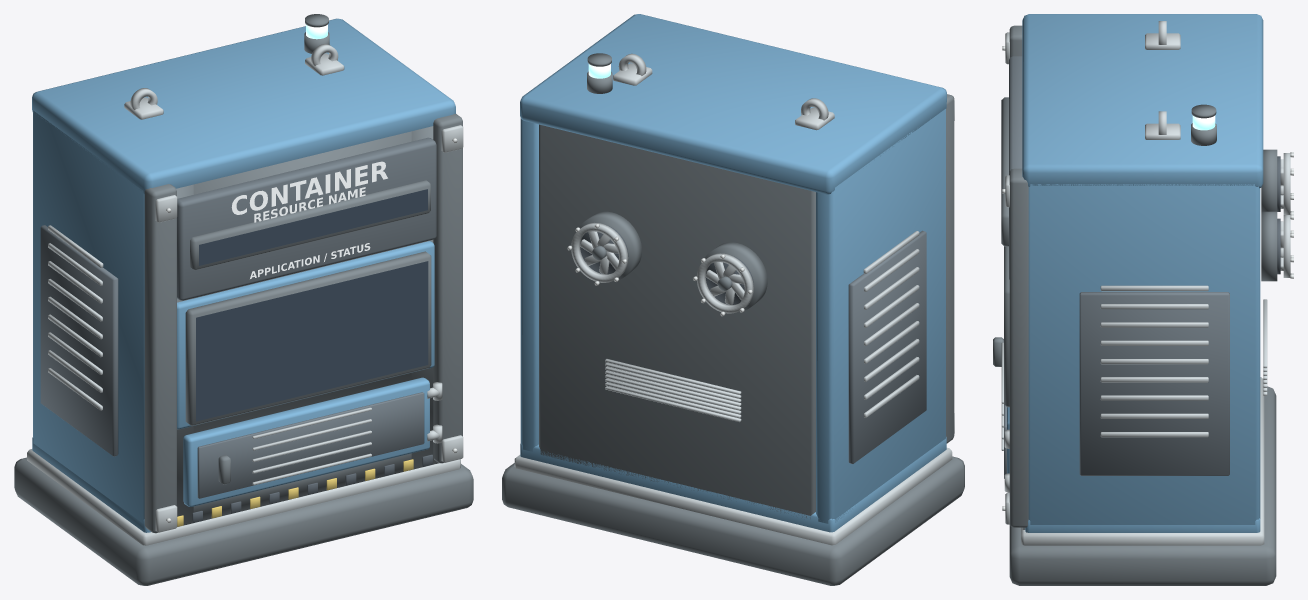
File: container_machine_ultra.glb
3 renders of one model, left to right at view 1: azimuth 30°, elevation 25°; view 2: azimuth 150°, elevation 25°; view 3: azimuth 270°, elevation 25°, orthographic. The views are drawn at different scales.
Parts seen in each view (by area): view 1: Roof_blue, LiveViewSurface_glass, SideWall_blue, Skid_frame, CornerPost_frame, FrontHeader_graphite, SideServicePanel_graphite, DoorMoving_Inset_graphite, DoorMoving_Panel_blue, SkidDeck_steel, LiveViewSurfaceFrame_frame, ResourceNameSurface_glass (+15 smaller); view 2: BackWall_frame, Roof_blue, SideWall_blue, Skid_frame, SideServicePanel_graphite, SkidDeck_steel, KickPlate_blue, RearFan_steel, RearVent_steel, SideLouver_steel, CornerPost_frame, RearFan_frame (+3 smaller); view 3: SideWall_blue, Roof_blue, SideServicePanel_graphite, Skid_frame, CornerPost_frame, SideLouver_steel, SkidDeck_steel, RearFan_frame, KickPlate_blue, FrontHeader_graphite, RearFan_steel, ResourceNameSurfaceFrame_frame (+7 smaller).
Part boxes in pixels (box(x1,y1,x2,y2)): Roof_blue: box(32, 18, 455, 194); LiveViewSurface_glass: box(196, 261, 428, 421); SideWall_blue: box(33, 110, 144, 523); Skid_frame: box(14, 457, 473, 585); CornerPost_frame: box(144, 114, 462, 533); FrontHeader_graphite: box(177, 137, 436, 300); SideServicePanel_graphite: box(40, 225, 118, 456); DoorMoving_Inset_graphite: box(197, 392, 424, 498); DoorMoving_Panel_blue: box(183, 377, 429, 506); SkidDeck_steel: box(27, 449, 460, 545); LiveViewSurfaceFrame_frame: box(185, 251, 431, 425); ResourceNameSurface_glass: box(199, 189, 427, 265); BackWall_frame: box(539, 124, 815, 518); Roof_blue: box(520, 14, 946, 194); SideWall_blue: box(520, 109, 945, 523); Skid_frame: box(502, 456, 964, 585); SideServicePanel_graphite: box(848, 230, 926, 463); SkidDeck_steel: box(514, 447, 952, 545); KickPlate_blue: box(520, 437, 946, 532); RearFan_steel: box(571, 222, 753, 313); RearVent_steel: box(605, 359, 741, 422); SideLouver_steel: box(863, 231, 919, 417); CornerPost_frame: box(946, 94, 954, 443); RearFan_frame: box(579, 211, 767, 311); SideWall_blue: box(1028, 184, 1260, 524); Roof_blue: box(1022, 14, 1263, 188); SideServicePanel_graphite: box(1079, 292, 1229, 475); Skid_frame: box(1009, 386, 1276, 585); CornerPost_frame: box(1009, 25, 1028, 527); SideLouver_steel: box(1100, 285, 1208, 437); SkidDeck_steel: box(1021, 377, 1264, 545); RearFan_frame: box(1261, 149, 1277, 281); KickPlate_blue: box(1025, 518, 1260, 532); FrontHeader_graphite: box(1009, 56, 1022, 279); RearFan_steel: box(1280, 153, 1290, 277); ResourceNameSurfaceFrame_frame: box(1001, 97, 1008, 246).
Bounding box in the file's own units: 2 × 2.48 × 1.51.
